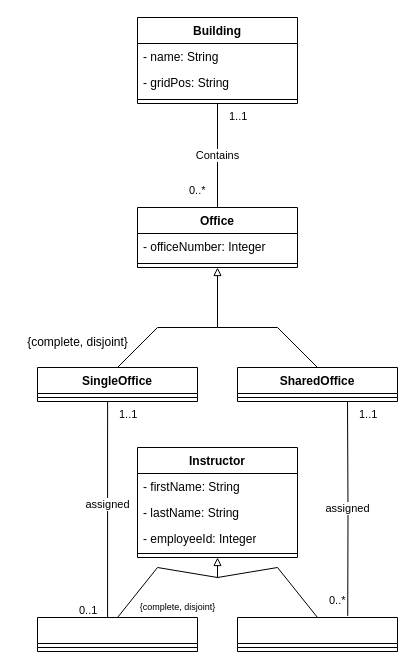
This 415x669 diagram has some shape labels left out. Each missing label, with the centre of its shape:
"FullTimeInstructor" belongs at pixel 117 634.
"PartTimeInstructor" belongs at pixel 317 634.
